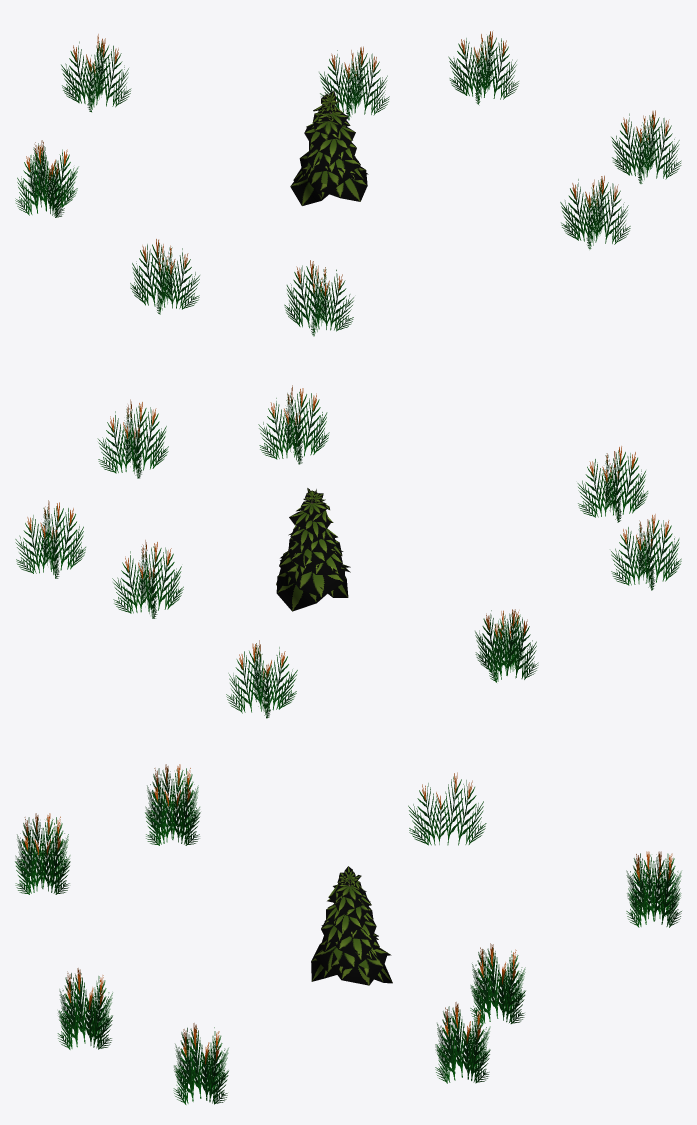
The model's file is Plant2_4.obj.
The picture shows the model from 3 angles, top to bottom: view 1: azimuth 30°, elevation 25°; view 2: azimuth 150°, elevation 25°; view 3: azimuth 270°, elevation 25°; orthographic projection. The views are drawn at different scales.
Parts seen in each view (by area): view 1: hemp, Grass.007_Plane_Plane.012, Grass.011_Plane_Plane.016, Grass.016_Plane_Plane.021, Grass.005_Plane_Plane.010, Grass.012_Plane_Plane.017, Grass.015_Plane_Plane.020, Grass.002_Plane_Plane.003, Grass.001_Plane_Plane.007; view 2: hemp, Grass.007_Plane_Plane.012, Grass.001_Plane_Plane.007, Grass.015_Plane_Plane.020, Grass.016_Plane_Plane.021, Grass.002_Plane_Plane.003, Grass.012_Plane_Plane.017, Grass.011_Plane_Plane.016, Grass.005_Plane_Plane.010; view 3: hemp, Grass.011_Plane_Plane.016, Grass.012_Plane_Plane.017, Grass.005_Plane_Plane.010, Grass.016_Plane_Plane.021, Grass.015_Plane_Plane.020, Grass.002_Plane_Plane.003, Grass.001_Plane_Plane.007, Grass.007_Plane_Plane.012.
Boxes of the visible parts, x1,y1,x2,y2 form: hemp: (290,91,368,205); Grass.007_Plane_Plane.012: (15,140,78,217); Grass.011_Plane_Plane.016: (284,260,353,336); Grass.016_Plane_Plane.021: (560,175,630,249); Grass.005_Plane_Plane.010: (61,34,131,112); Grass.012_Plane_Plane.017: (130,239,199,314); Grass.015_Plane_Plane.020: (611,110,681,183); Grass.002_Plane_Plane.003: (448,31,518,105); Grass.001_Plane_Plane.007: (319,46,389,120); hemp: (276,488,350,611); Grass.007_Plane_Plane.012: (475,609,538,682); Grass.001_Plane_Plane.007: (112,540,183,618); Grass.015_Plane_Plane.020: (97,399,168,478); Grass.016_Plane_Plane.021: (258,385,329,464); Grass.002_Plane_Plane.003: (15,500,85,578); Grass.012_Plane_Plane.017: (611,514,681,590); Grass.011_Plane_Plane.016: (577,446,648,522); Grass.005_Plane_Plane.010: (226,640,297,718); hemp: (311,866,392,985); Grass.011_Plane_Plane.016: (15,813,70,894); Grass.012_Plane_Plane.017: (145,764,200,845); Grass.005_Plane_Plane.010: (626,851,681,927); Grass.016_Plane_Plane.021: (57,968,112,1049); Grass.015_Plane_Plane.020: (173,1023,228,1104); Grass.002_Plane_Plane.003: (435,1002,490,1083); Grass.001_Plane_Plane.007: (470,943,525,1023); Grass.007_Plane_Plane.012: (408,772,486,845).
Bounding box in the file's own units: 83.9 × 15.97 × 83.84.
Materials: 2 (2 with a texture image).
